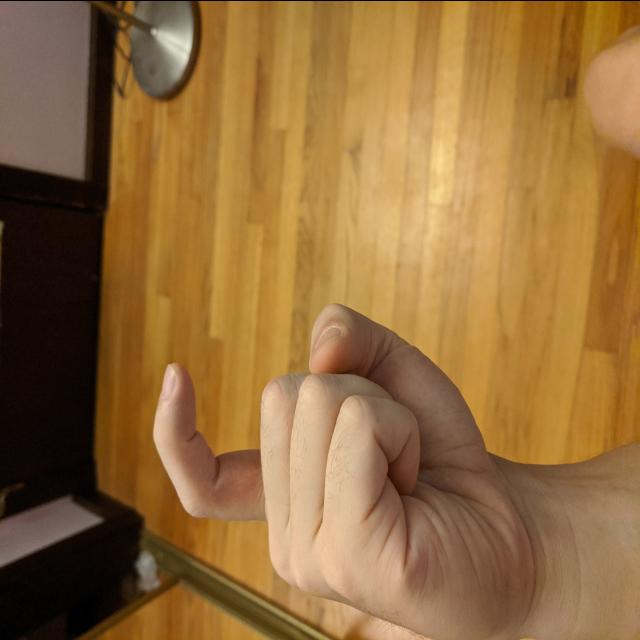X: (146, 294, 538, 640)
